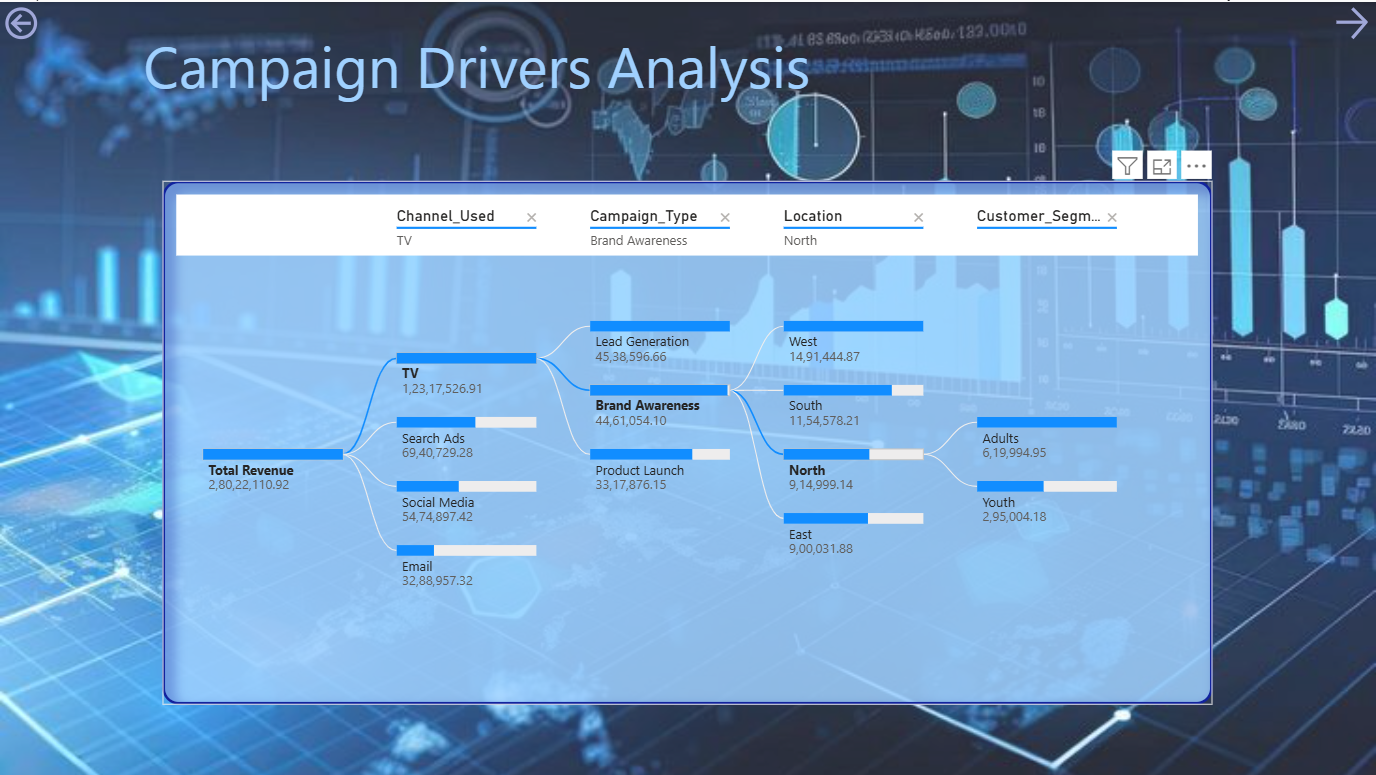

The page's visual inventory and layout, read from the dashboard file:
{"tool":"powerbi","page":{"name":"Decomposition Tree","canvas":[1280,720],"ordinal":3},"visuals":[{"type":"decompositionTreeVisual","fields":{"Analyze":["Marketing_Campaign_Performance_Project_Dataset.Total Revenue"],"ExplainBy":["Marketing_Campaign_Performance_Project_Dataset.Channel_Used","Marketing_Campaign_Performance_Project_Dataset.Campaign_Type","Marketing_Campaign_Performance_Project_Dataset.Location","Marketing_Campaign_Performance_Project_Dataset.Customer_Segment"]},"box":[151.2,166.3,976.7,487.2],"z":0},{"type":"shape","box":[76.7,8.1,733.7,100],"z":1000},{"type":"actionButton","box":[1237,0,43,39.5],"z":2000},{"type":"actionButton","box":[0,0,39.5,39.5],"z":3000}]}

Visuals, with their boxes in screenshot pixels (x1, y1, x2, y2), scaled from the page's 1280x720 canvas onto the 1376x775 screenshot:
decompositionTreeVisual - Marketing_Campaign_Performance_Project_Dataset.Total Revenue x Marketing_Campaign_Performance_Project_Dataset.Channel_Used: x1=163 y1=179 x2=1212 y2=703
shape: x1=82 y1=9 x2=871 y2=116
actionButton: x1=1330 y1=0 x2=1375 y2=43
actionButton: x1=0 y1=0 x2=42 y2=43
